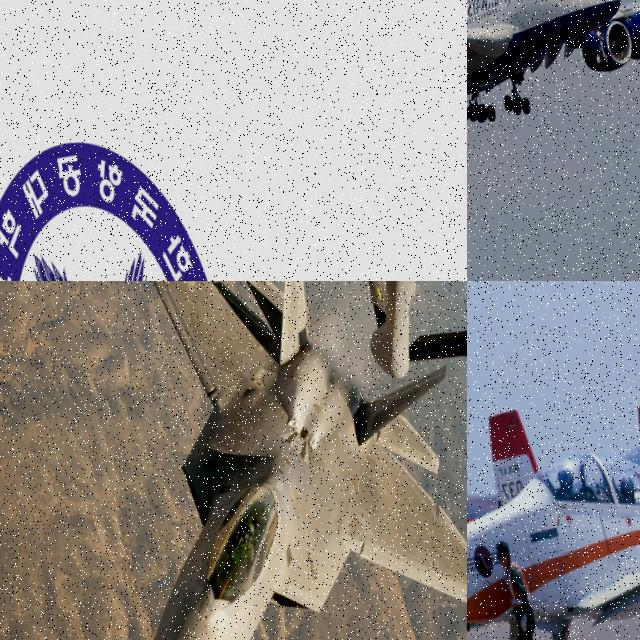A380: (467, 0, 640, 198)
F22: (51, 281, 467, 640)
KAU_Marker: (0, 122, 256, 281)
KT-1: (467, 359, 640, 640), (488, 362, 640, 640)
